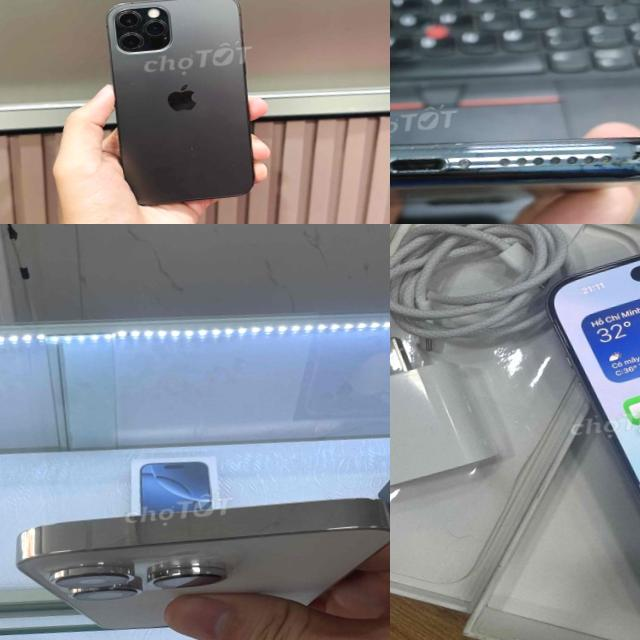scratch: (390, 115, 516, 206)
